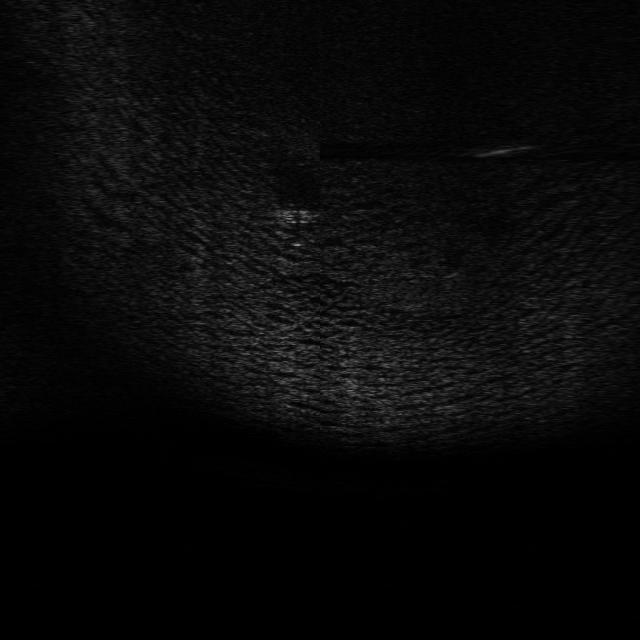plane: (268, 202, 326, 229)
